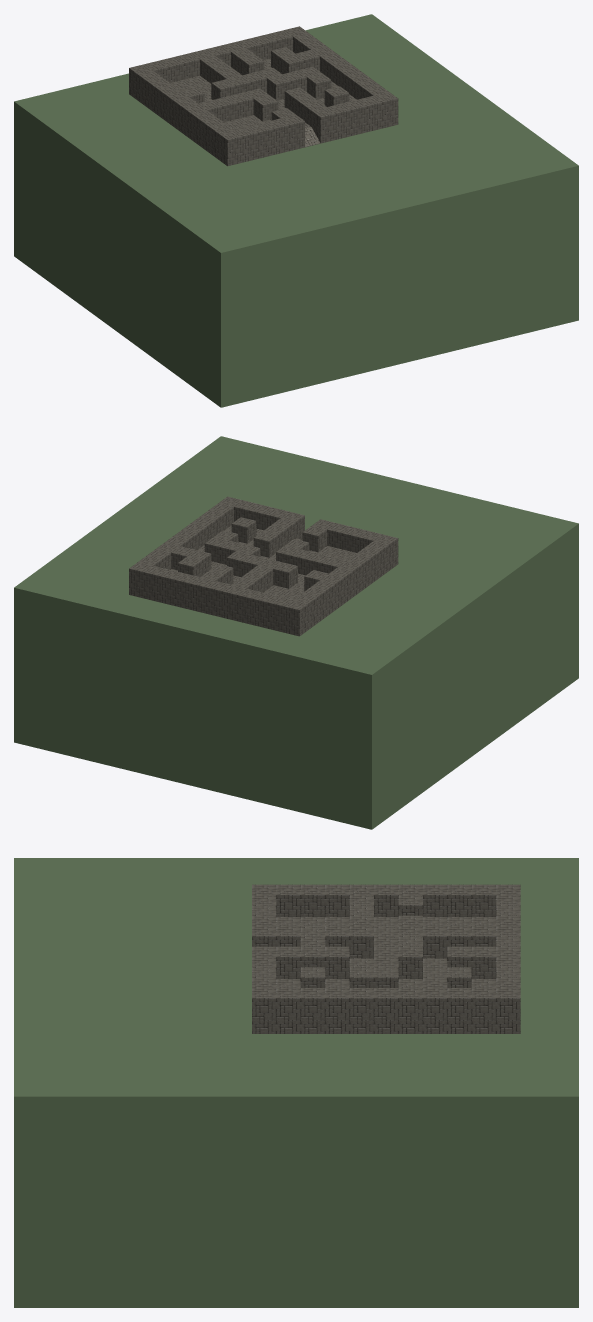
File: Floor.fbx
3 renders of one model, top to bottom at view 1: azimuth 30°, elevation 25°; view 2: azimuth 150°, elevation 25°; view 3: azimuth 270°, elevation 25°, orthographic. The views are drawn at different scales.
Parts seen in each view (by area): view 1: Mesh; view 2: Mesh; view 3: Mesh.
Part boxes in pixels (left/top/right/bottom): Mesh: left=14, top=14, right=578, bottom=407; Mesh: left=14, top=436, right=578, bottom=829; Mesh: left=14, top=858, right=578, bottom=1307.
Bounding box in the file's own units: 3000 × 1450 × 3005.
